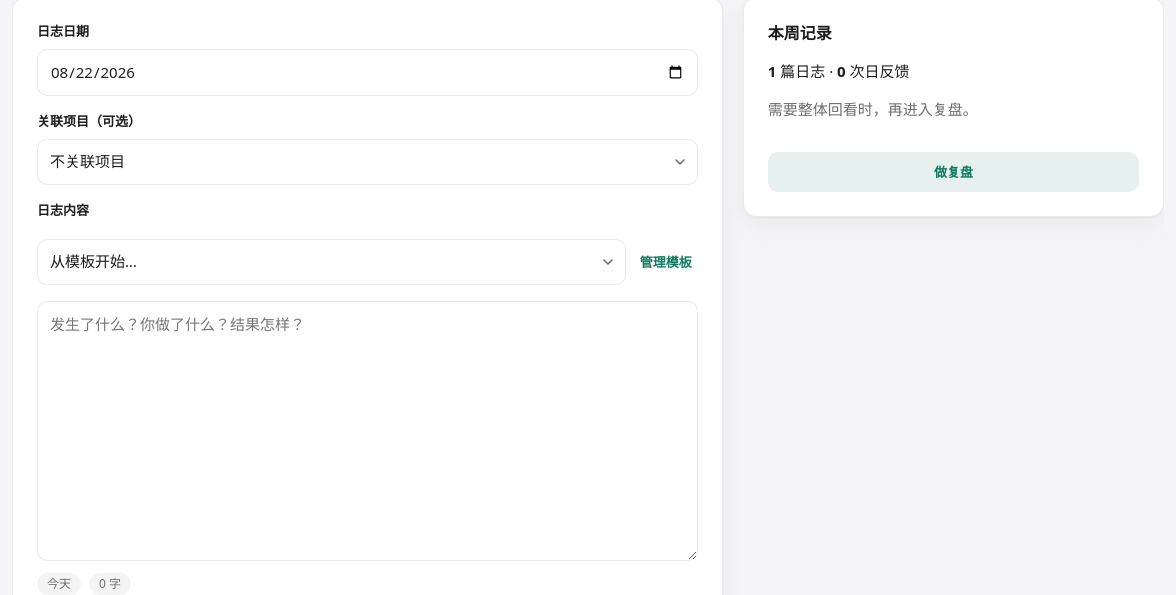
Test: TodayPage › starts a blank entry even when today already has a journal
Type "新的日志内容" into the text box named "日志内容" at (367, 431), box [37,301,698,561]
(page scrolled)
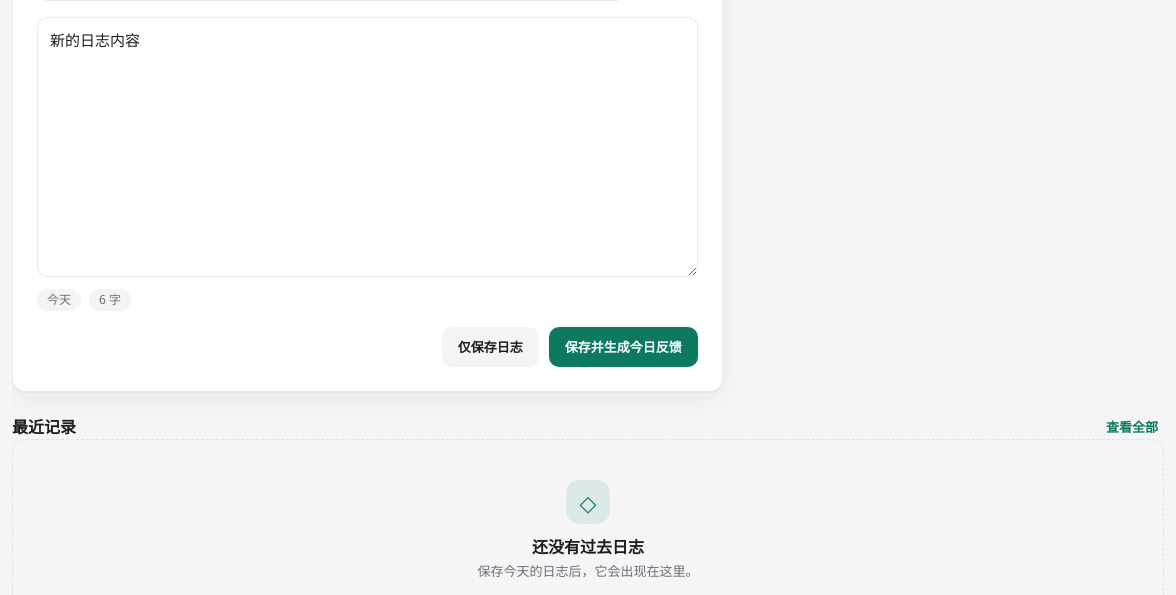
Click the button "仅保存日志" at (490, 347), box [442,327,539,367]
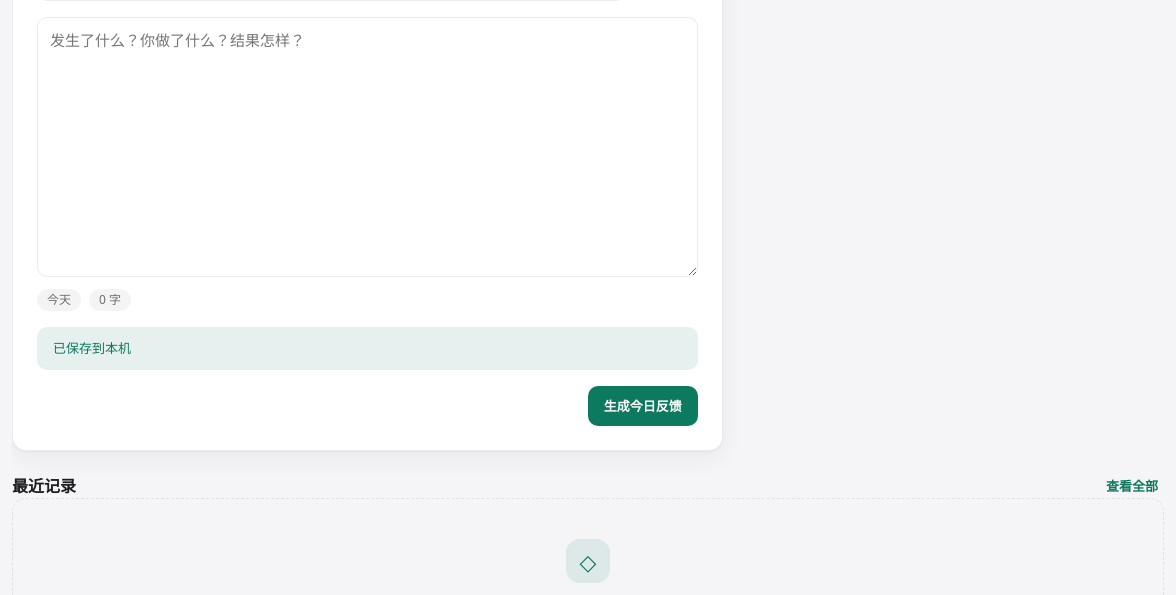
Now the text "已保存到本机" is shown, box [37,327,698,370]
